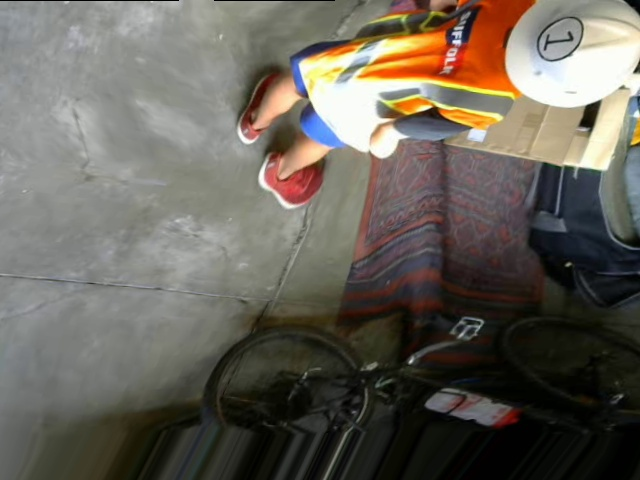one: (530, 15, 588, 64)
